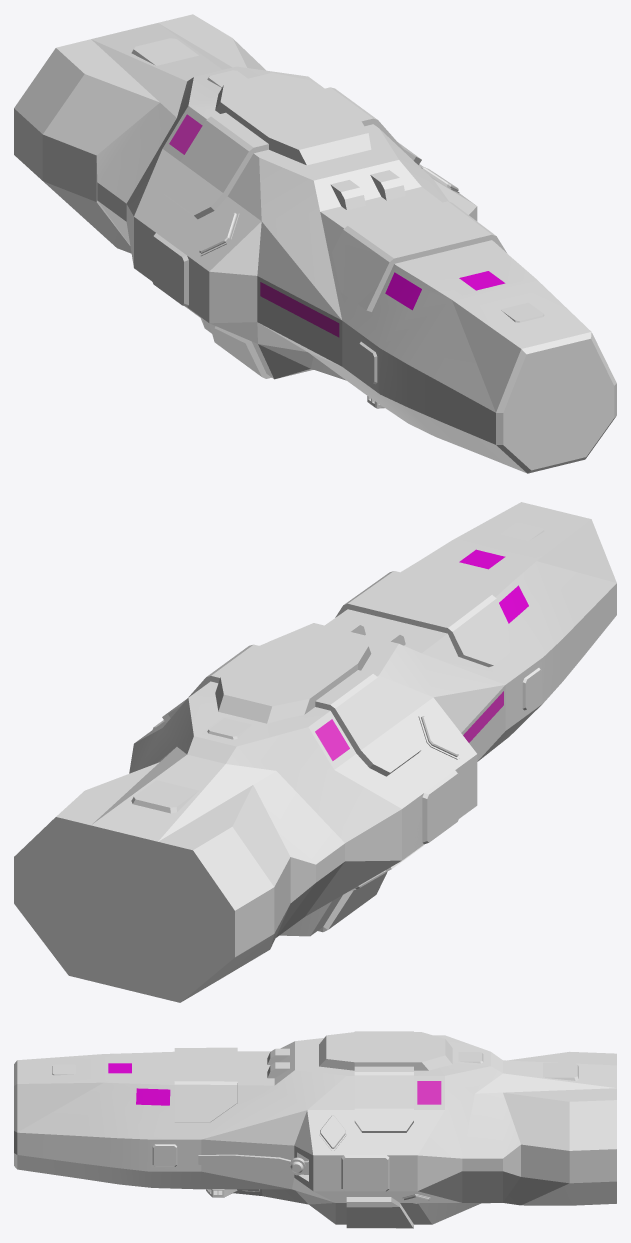
Rendered from Moccatar Remake Antenna Fix.fbx.
The picture shows the model from 3 angles, top to bottom: view 1: azimuth 30°, elevation 25°; view 2: azimuth 150°, elevation 25°; view 3: azimuth 270°, elevation 25°; orthographic projection. The views are drawn at different scales.
Visible parts, largest first — view 1: CH_Mocc_Remake_Mid, CH_Mocc_Remake_Bow, CH_Mocc_Remake_Stern; view 2: CH_Mocc_Remake_Mid, CH_Mocc_Remake_Stern, CH_Mocc_Remake_Bow; view 3: CH_Mocc_Remake_Mid, CH_Mocc_Remake_Bow, CH_Mocc_Remake_Stern, CH_Mocc_Remake_Antenna.
Part boxes in pixels (<box>): CH_Mocc_Remake_Mid: <box>96,66,477,366</box>; CH_Mocc_Remake_Bow: <box>308,170,616,473</box>; CH_Mocc_Remake_Stern: <box>14,14,313,379</box>; CH_Mocc_Remake_Mid: <box>129,623,505,937</box>; CH_Mocc_Remake_Stern: <box>14,747,423,1002</box>; CH_Mocc_Remake_Bow: <box>325,502,616,761</box>; CH_Mocc_Remake_Mid: <box>201,1031,520,1202</box>; CH_Mocc_Remake_Bow: <box>14,1047,308,1204</box>; CH_Mocc_Remake_Stern: <box>295,1051,616,1228</box>; CH_Mocc_Remake_Antenna: <box>198,1154,308,1175</box>.
Bounding box in the file's own units: 743 × 2028 × 607.
